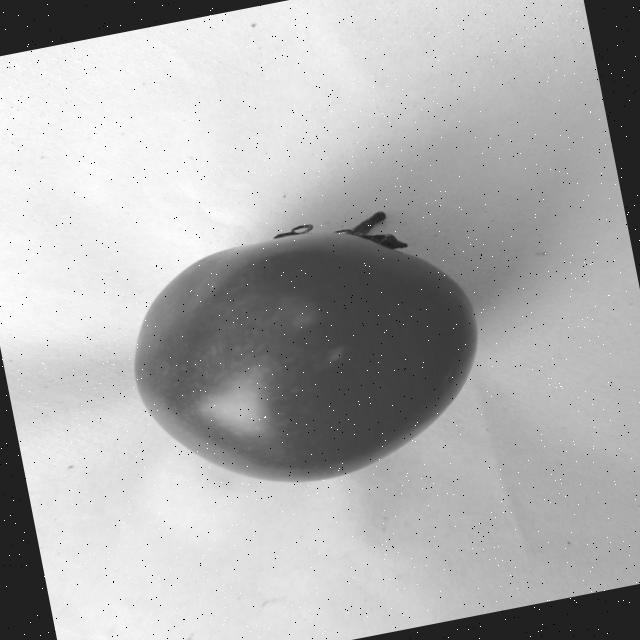Ripe: (111, 199, 504, 516)
